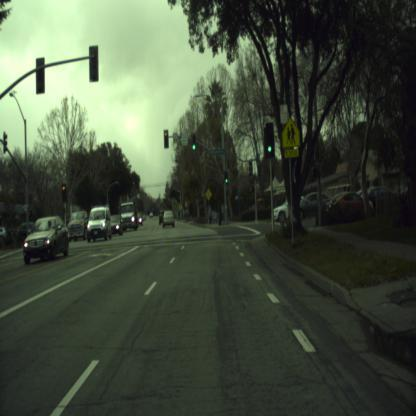Green: (266, 122, 274, 156), (192, 134, 196, 150), (224, 170, 228, 184), (164, 193, 166, 199), (174, 203, 176, 209)
RedLeft: (62, 184, 66, 201), (164, 130, 168, 147)
